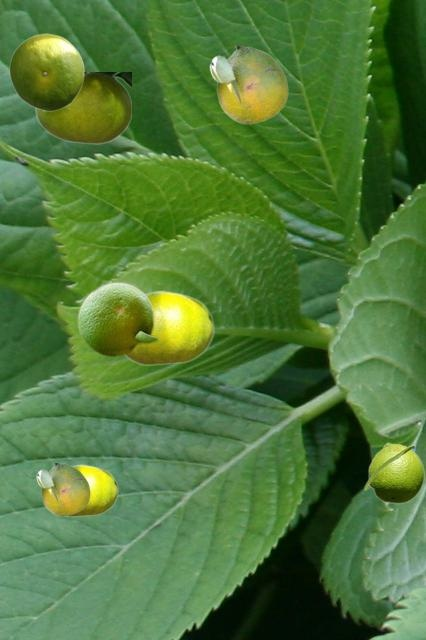dalandan: (35, 72, 130, 143), (125, 290, 213, 365), (76, 280, 159, 356), (209, 46, 287, 123), (9, 33, 83, 110), (363, 442, 424, 503), (64, 464, 117, 516), (36, 463, 89, 515)
